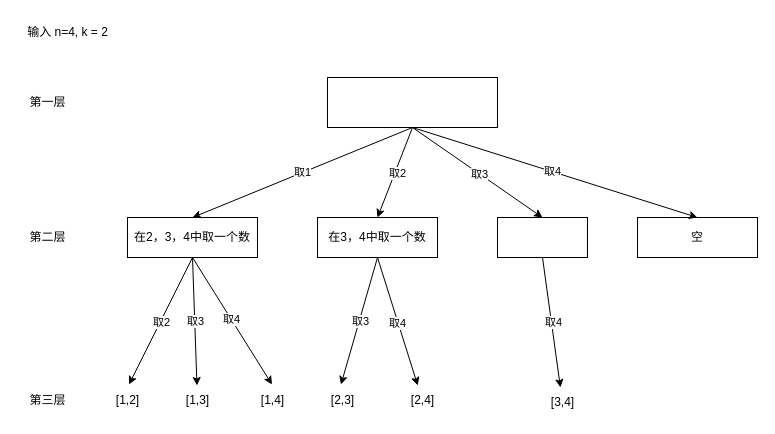
Some shapes in this 775 by 434 pixel diagram are drawn without their labels. The box of each missing label's shape, as (x1, y1, x2, y2) in pixels:
在1，2，3，4中取两个数: (326, 76, 498, 128)
在4中取一个数: (496, 216, 588, 258)
